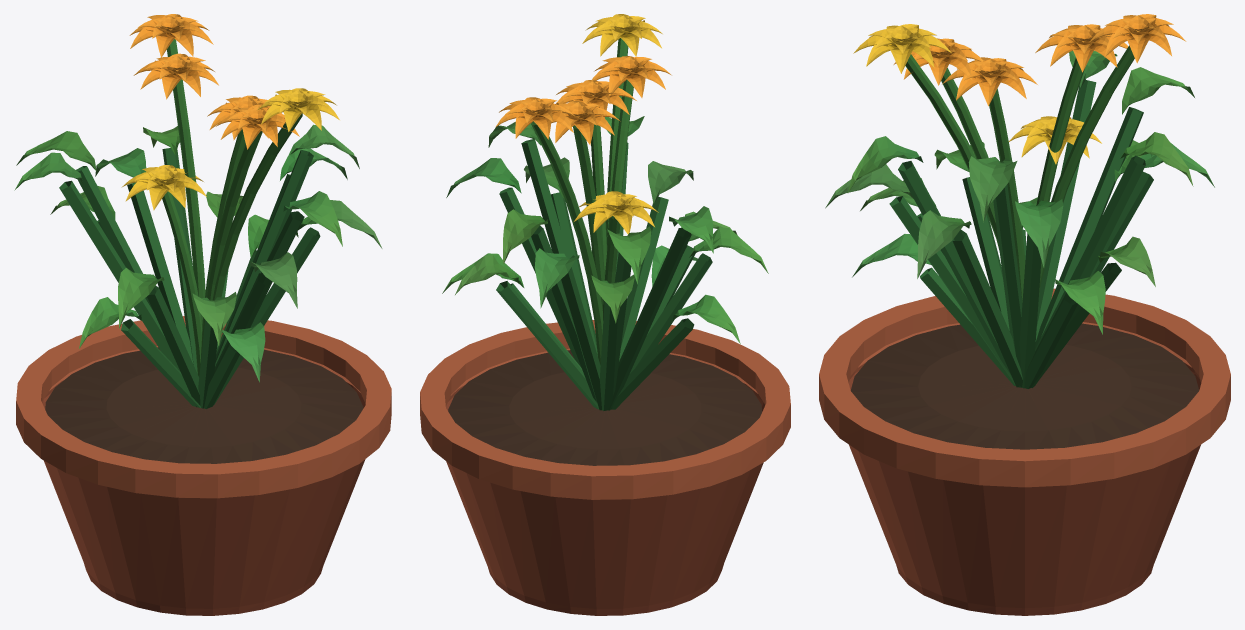
File: cravo-defunto.glb
3 renders of one model, left to right at view 1: azimuth 30°, elevation 25°; view 2: azimuth 150°, elevation 25°; view 3: azimuth 270°, elevation 25°, orthographic. The views are drawn at different scales.
Parts seen in each view (by area): view 1: cravo-defunto; view 2: cravo-defunto; view 3: cravo-defunto.
Part boxes in pixels (x1,y1,x2,y2): cravo-defunto: (14, 14, 391, 615); cravo-defunto: (420, 14, 790, 615); cravo-defunto: (819, 14, 1230, 615).
Bounding box in the file's own units: 0.1696 × 0.249 × 0.1696.
Materials: 1 (1 with a texture image).
